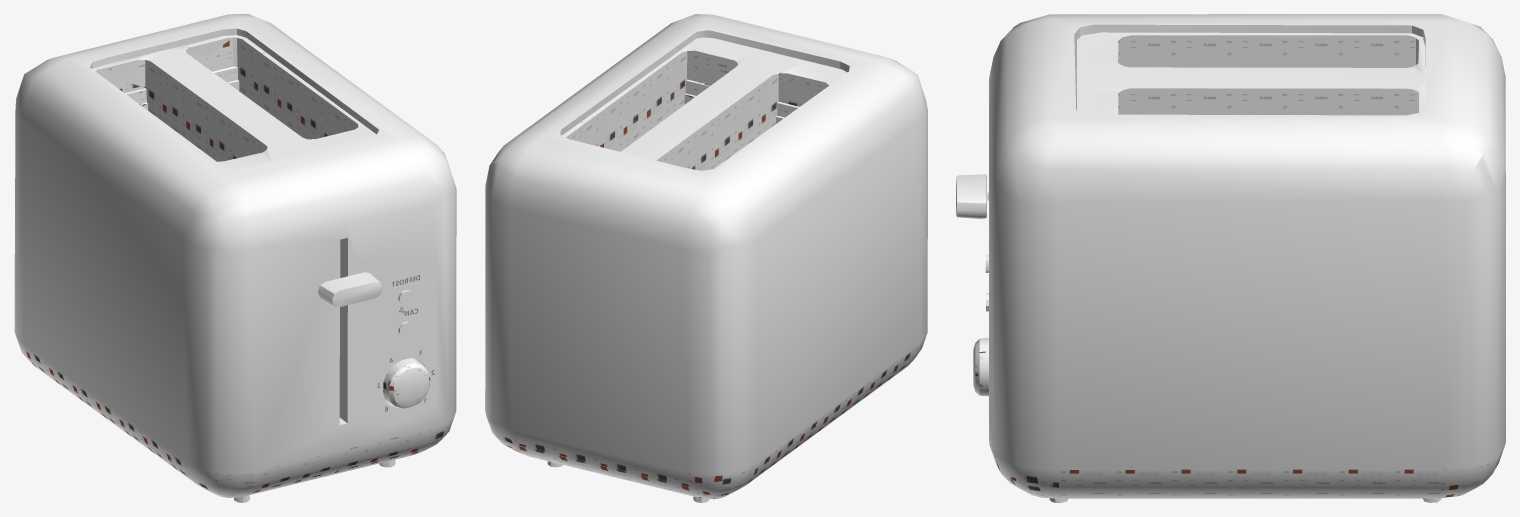
The model's file is SM_Toaster_2.fbx.
The picture shows the model from 3 angles, left to right: view 1: azimuth 30°, elevation 25°; view 2: azimuth 150°, elevation 25°; view 3: azimuth 270°, elevation 25°; orthographic projection. The views are drawn at different scales.
Visible parts, largest first — view 1: GDLM1249_GDLM1036_mLayer136_21; view 2: GDLM1249_GDLM1036_mLayer136_21; view 3: GDLM1249_GDLM1036_mLayer136_21.
Part boxes in pixels (box(x1,y1,x2,y2)): GDLM1249_GDLM1036_mLayer136_21: box(14, 14, 456, 502); GDLM1249_GDLM1036_mLayer136_21: box(485, 14, 927, 502); GDLM1249_GDLM1036_mLayer136_21: box(956, 14, 1505, 502).
Size of the model in its own units: 0.1649 by 0.1944 by 0.2504.
Materials: 5 (4 with a texture image).
